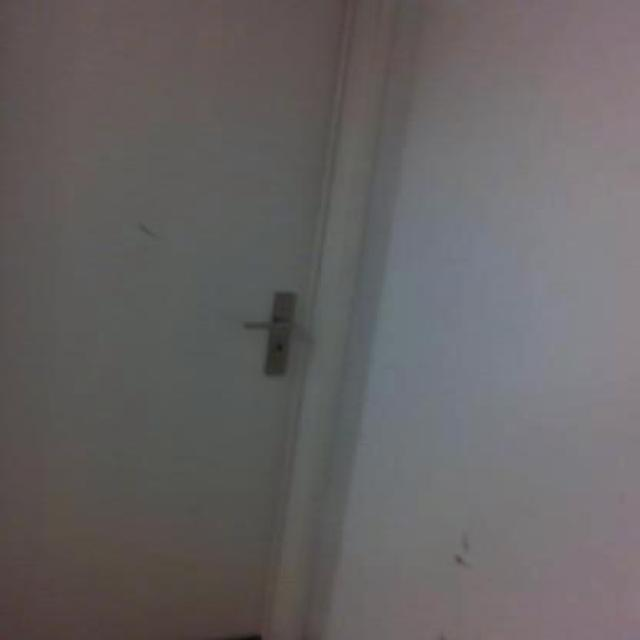door: (0, 0, 403, 638)
